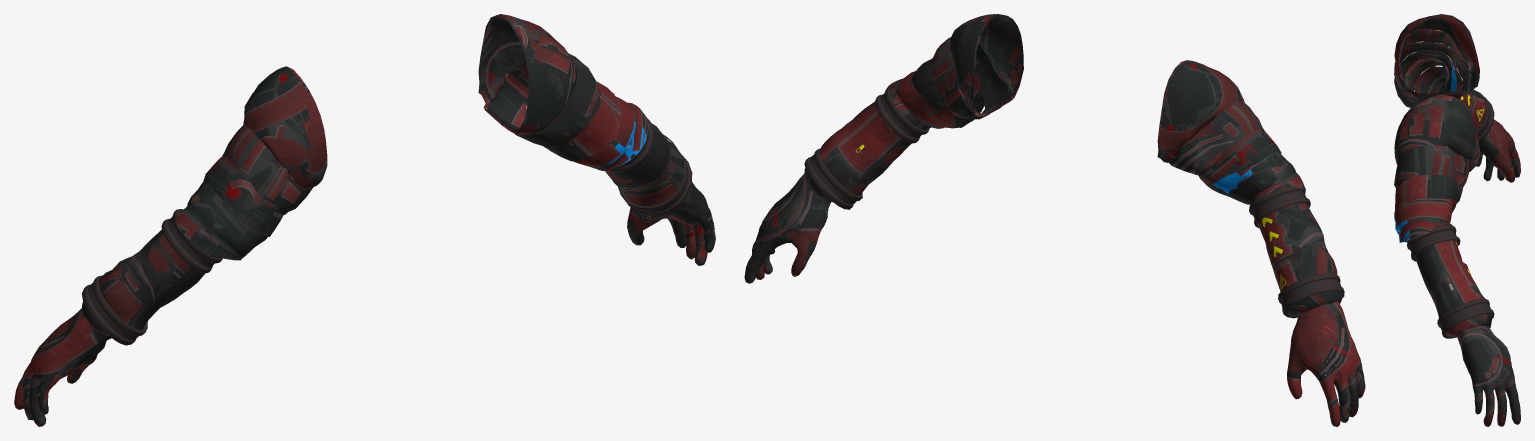
Rendered from 00_tropper-hand-LP.fbx.
3 views of the same model, side by side, from view 1: azimuth 30°, elevation 25°; view 2: azimuth 150°, elevation 25°; view 3: azimuth 270°, elevation 25° (orthographic). The views are drawn at different scales.
Parts seen in each view (by area): view 1: hand_tropper_002; view 2: hand_tropper_002; view 3: hand_tropper_002.
Part boxes in pixels (box(x1,y1,x2,y2)): hand_tropper_002: box(14, 14, 715, 426); hand_tropper_002: box(744, 14, 1365, 426); hand_tropper_002: box(1394, 14, 1520, 426).
Bounding box in the file's own units: 1394 × 638 × 296.
